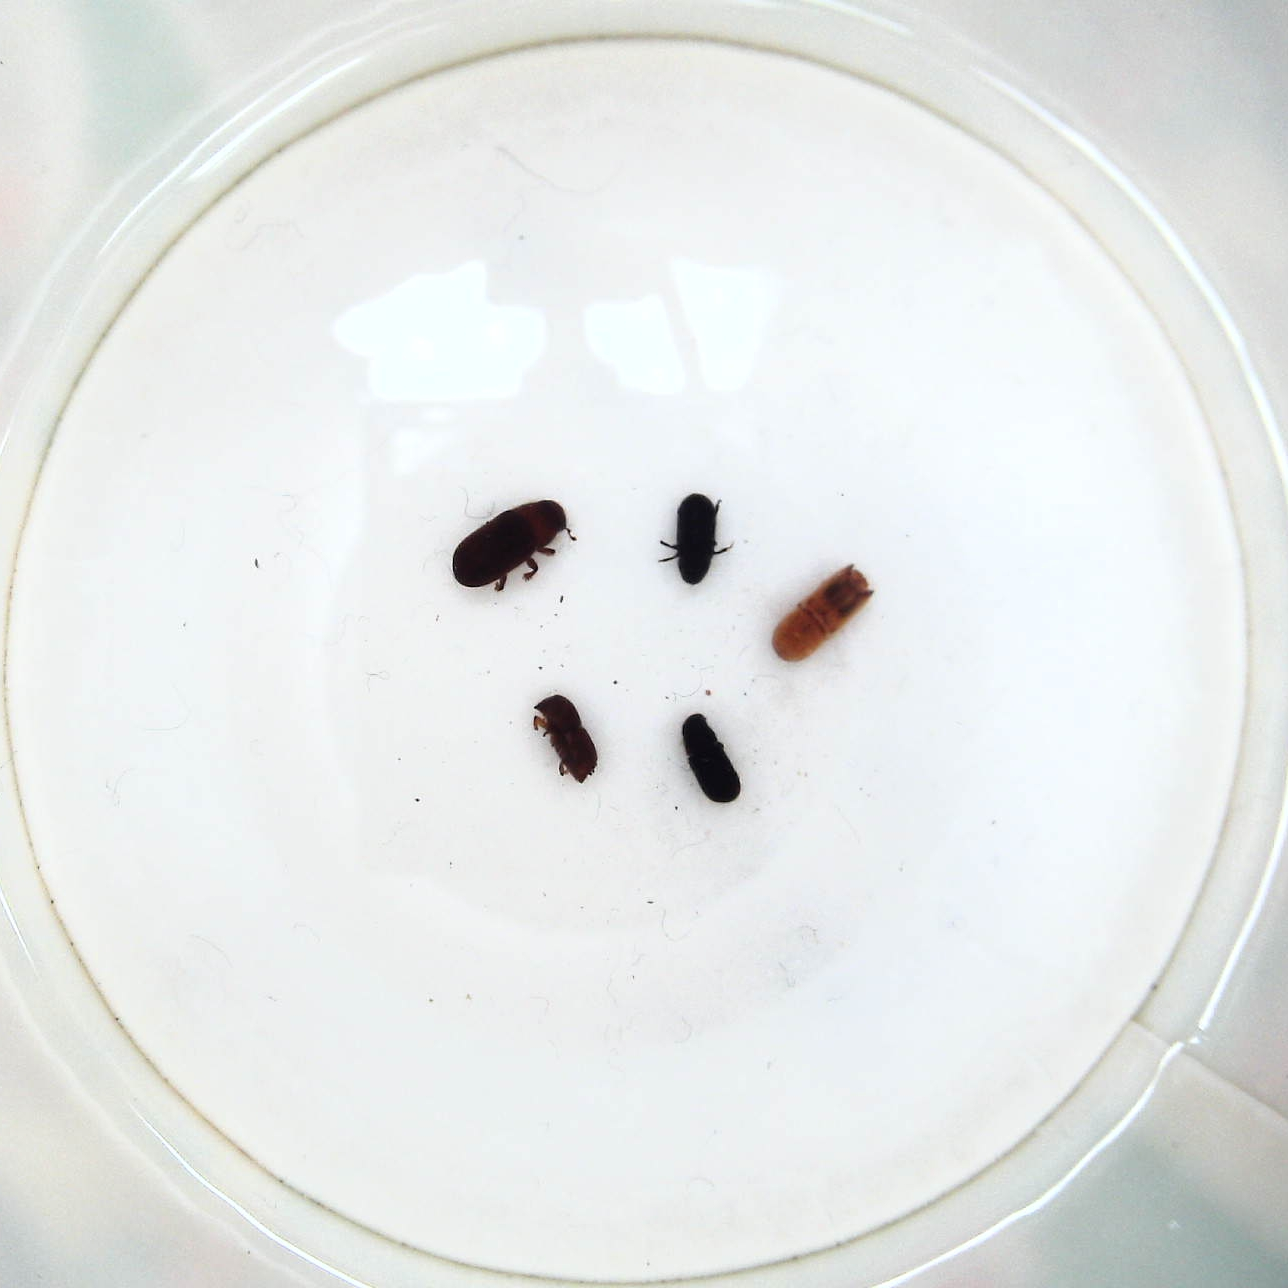Boerner: (767, 560, 878, 665)
Leconte: (451, 497, 574, 594)
armandi: (677, 709, 738, 807)
coleoptera: (657, 492, 728, 587)
linnaeus: (531, 695, 604, 790)
